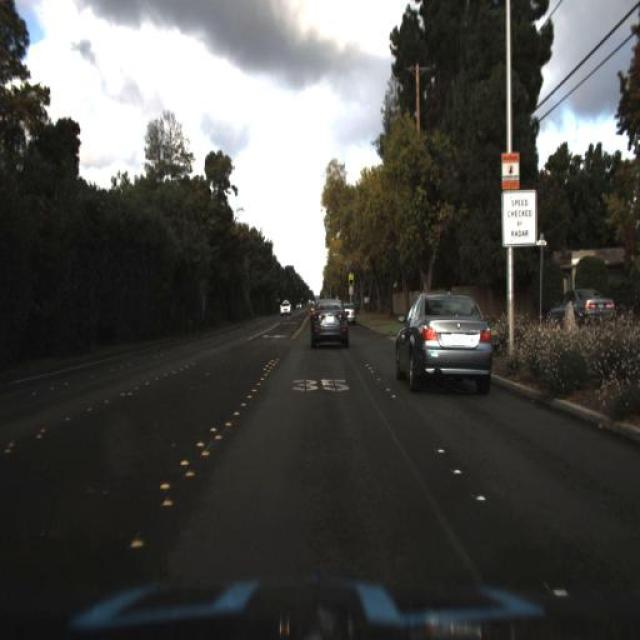car: (394, 286, 496, 400), (542, 280, 617, 328), (305, 294, 354, 354), (339, 298, 357, 328), (278, 298, 292, 316)
